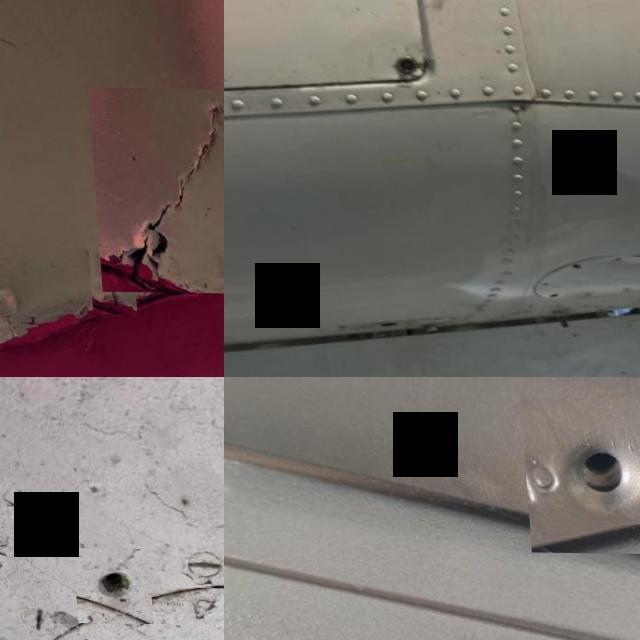Crack: (83, 87, 224, 292), (82, 243, 130, 316)
Missing_Fastener: (517, 396, 640, 552), (70, 548, 150, 624), (564, 262, 574, 268)
